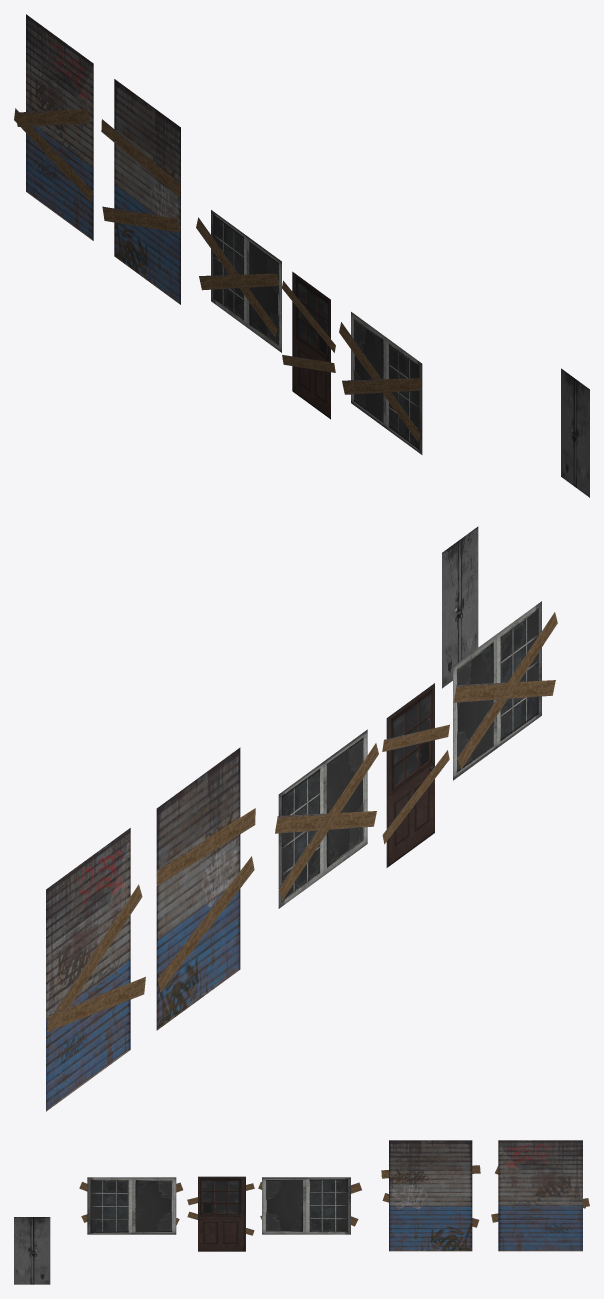
File: Attles-Pump additional.fbx
The picture shows the model from 3 angles, top to bottom: view 1: azimuth 30°, elevation 25°; view 2: azimuth 150°, elevation 25°; view 3: azimuth 270°, elevation 25°; orthographic projection. The views are drawn at different scales.
Parts seen in each view (by area): view 1: MArt old additional items; view 2: MArt old additional items; view 3: MArt old additional items.
Boxes of the visible parts, x1=… form: MArt old additional items: x1=14, y1=14, x2=589, y2=497; MArt old additional items: x1=46, y1=526, x2=557, y2=1111; MArt old additional items: x1=14, y1=1140, x2=589, y2=1284.
Size of the model in its own units: 6380 by 9466 by 43993.
Materials: 1 (1 with a texture image).
